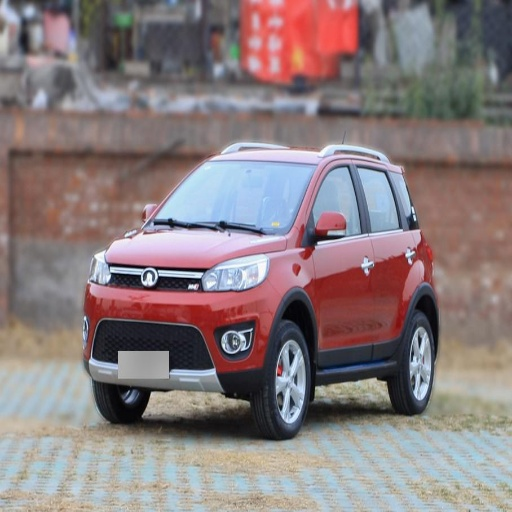front_bumper: (87, 264, 279, 393)
front_glass: (145, 162, 314, 235)
front_left_door: (304, 158, 373, 365)
